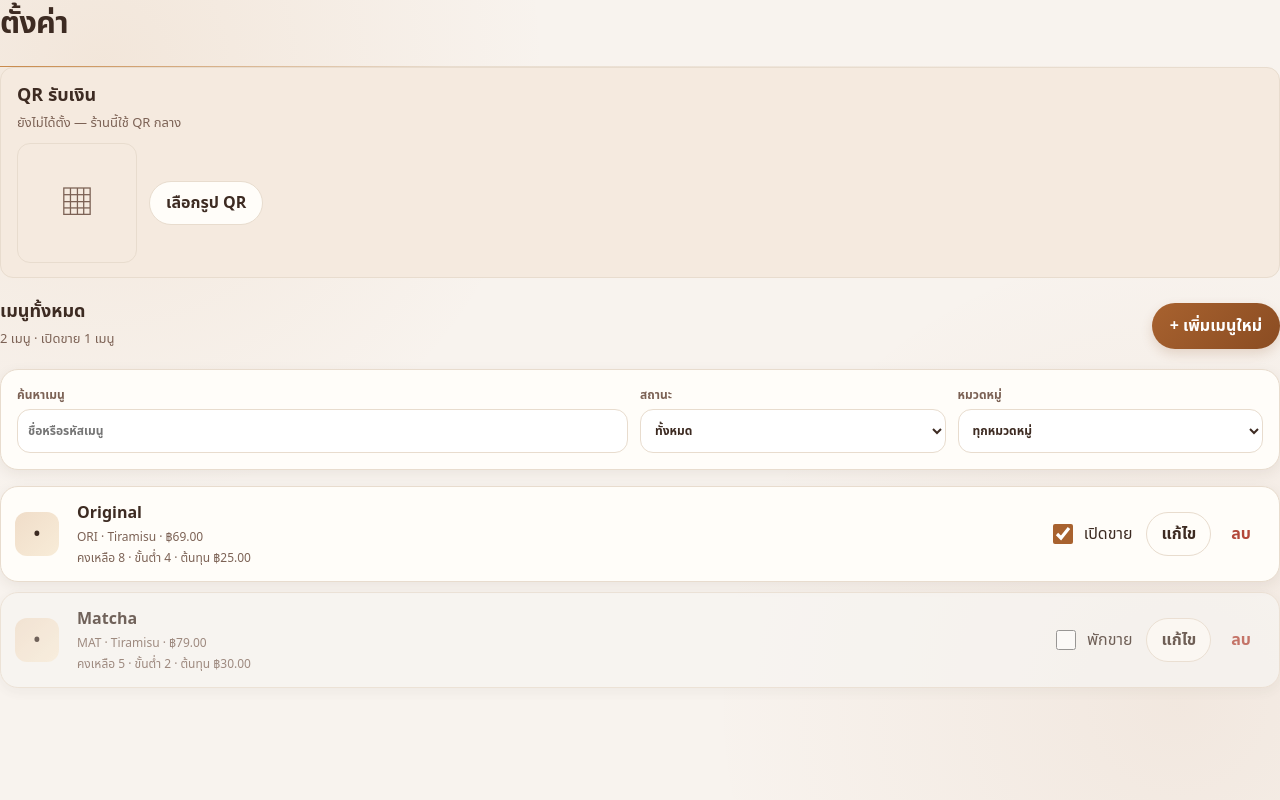
Test: ProductsAdminPage › edits a product and includes direct stock replacement exactly
The width and height of the screenshot is (1280, 800).
Expected: the text "Original" is shown, [77,501,142,525]
Click the button with aria-label "แก้ไข Original": (1179, 534) [1146,512,1211,556]
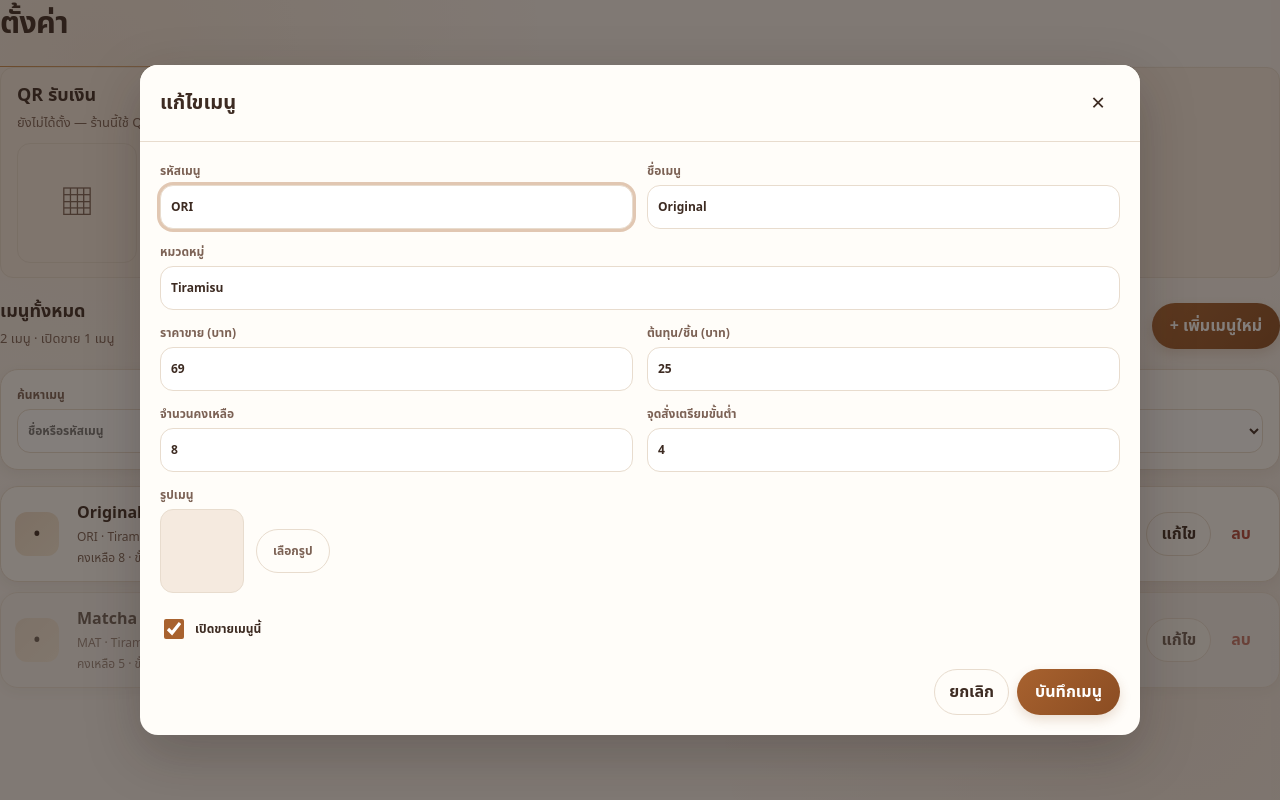
Replace the text in the number field labelled "จำนวนคงเหลือ" with "13": (396, 450) [160,428,633,472]
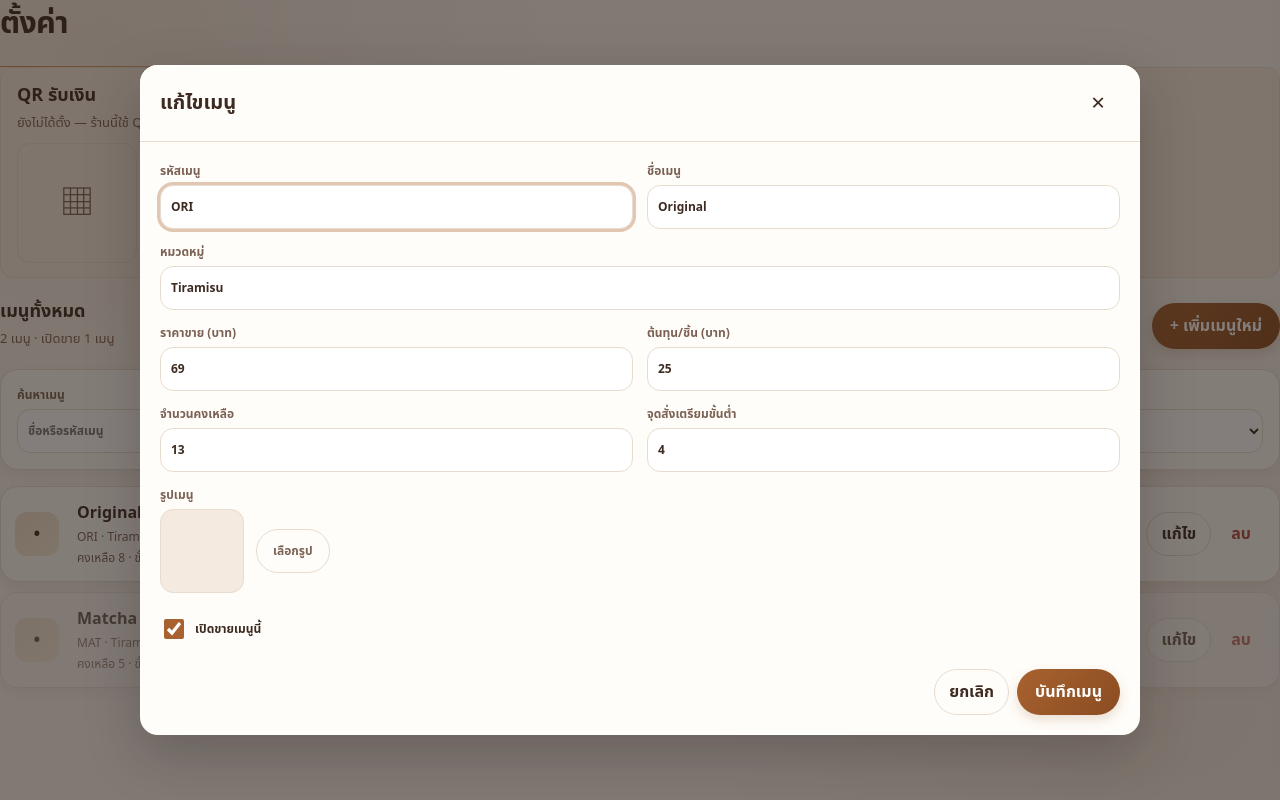
Click the button "บันทึกเมนู": (1069, 692) [1017,669,1120,715]
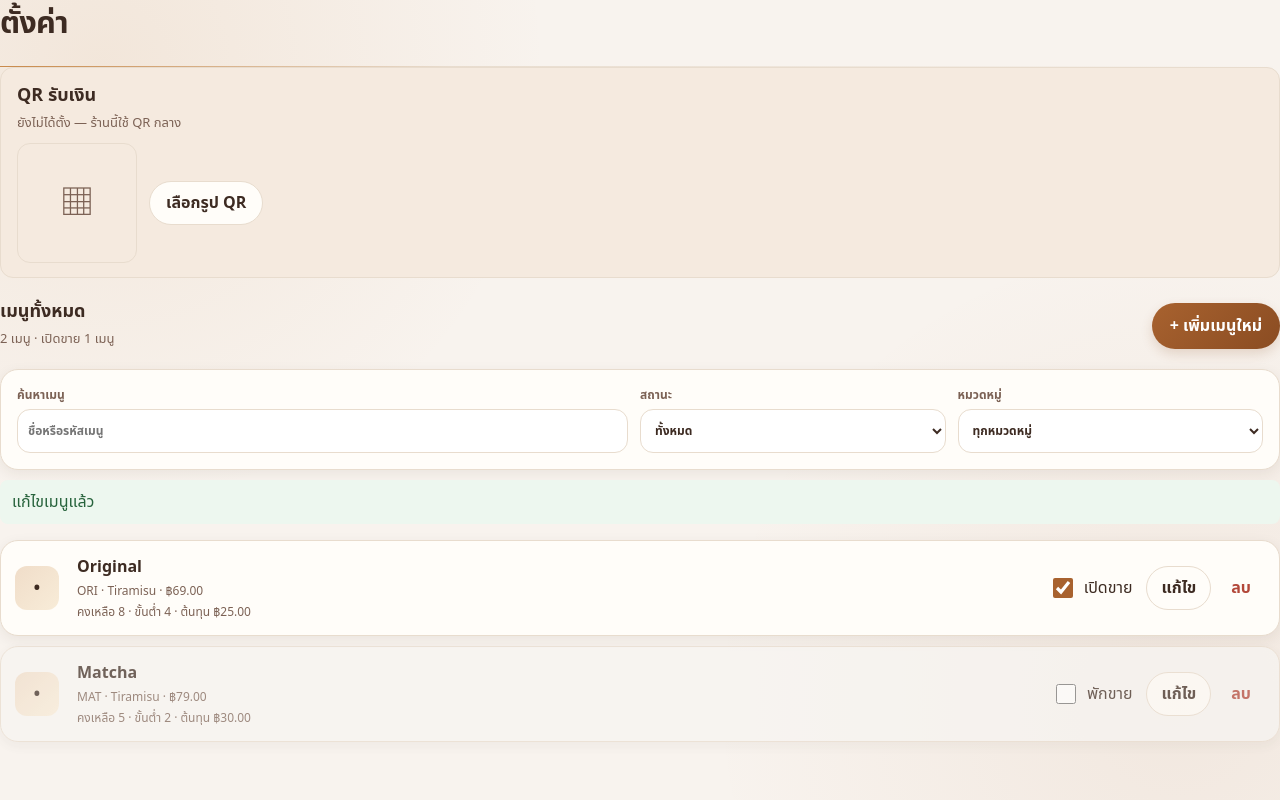
Expected: the message reads "แก้ไขเมนูแล้ว", [12,490,94,514]
